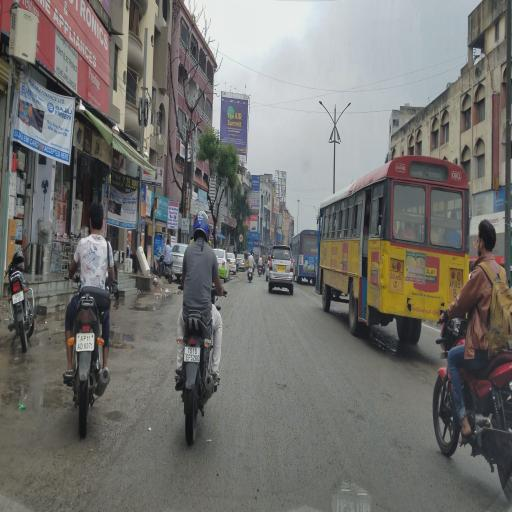street_light_0: (333, 104, 360, 140), (306, 105, 333, 141)
